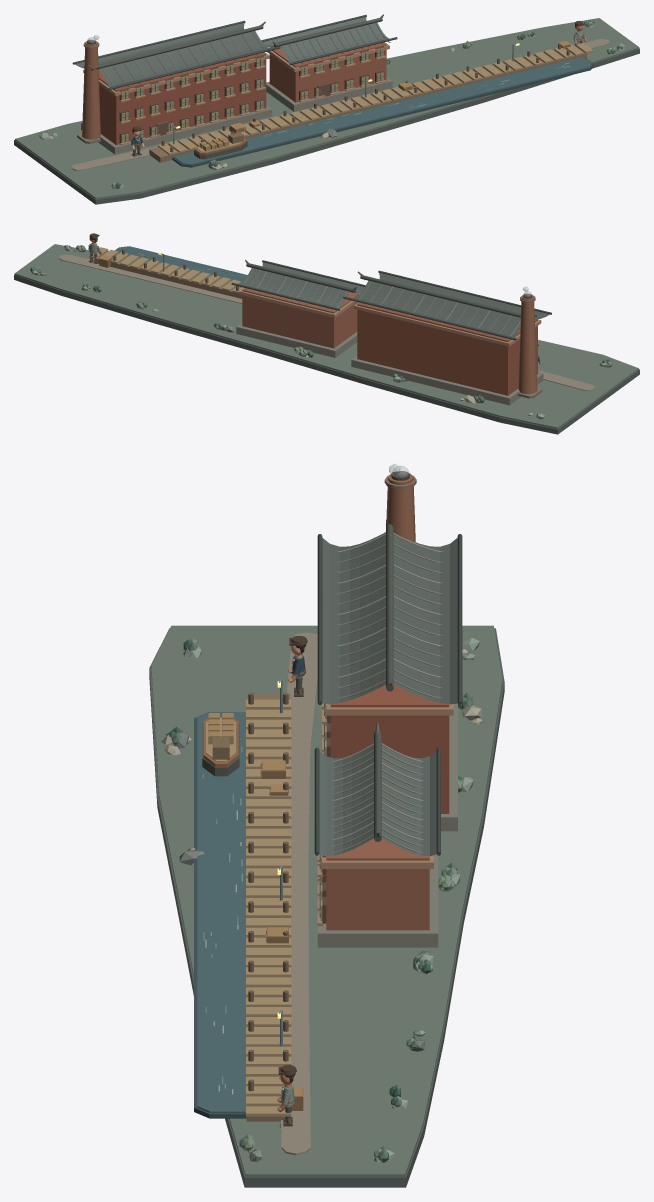
File: manchester.glb
3 renders of one model, top to bottom at view 1: azimuth 30°, elevation 25°; view 2: azimuth 150°, elevation 25°; view 3: azimuth 270°, elevation 25°, orthographic. The views are drawn at different scales.
Visible parts, largest first — view 1: TerrainAndBuildings, BargeBoatPivot; view 2: TerrainAndBuildings; view 3: TerrainAndBuildings, BargeBoatPivot.
Boxes of the visible parts, box(x1,y1,x2,y2) form: TerrainAndBuildings: box(14, 14, 639, 204); BargeBoatPivot: box(194, 132, 247, 159); TerrainAndBuildings: box(14, 244, 639, 434); TerrainAndBuildings: box(149, 471, 504, 1187); BargeBoatPivot: box(202, 713, 239, 776).
Size of the model in its own units: 1.73 by 0.3351 by 0.4717.
